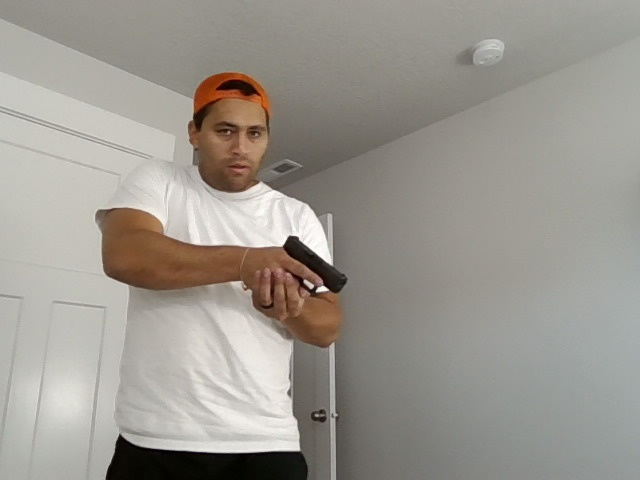handgun: (283, 232, 348, 299)
